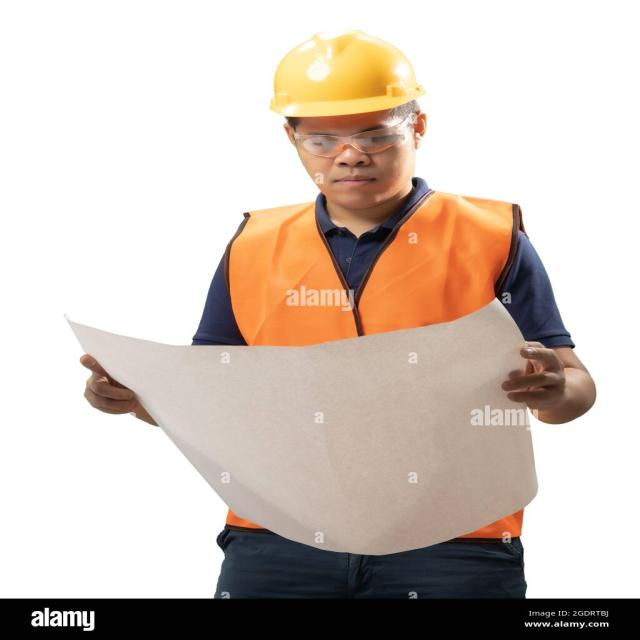goggles: (292, 116, 427, 154)
helmet: (275, 24, 428, 135)
vest: (201, 193, 536, 549)
